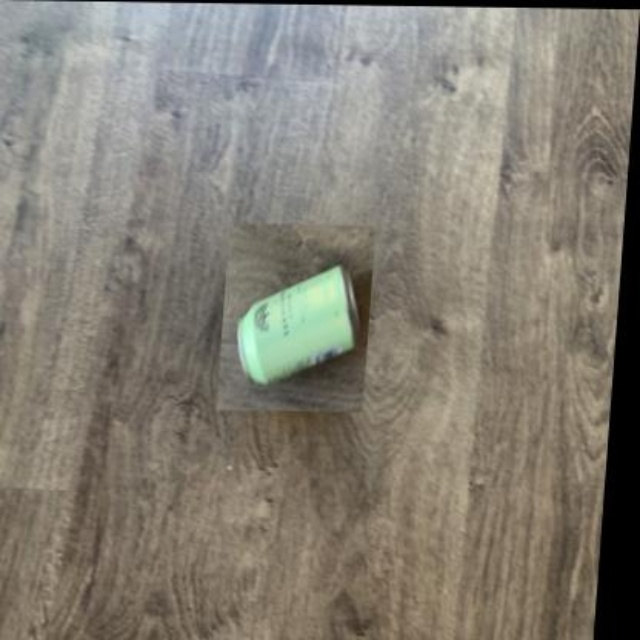trash: (237, 265, 357, 383)
